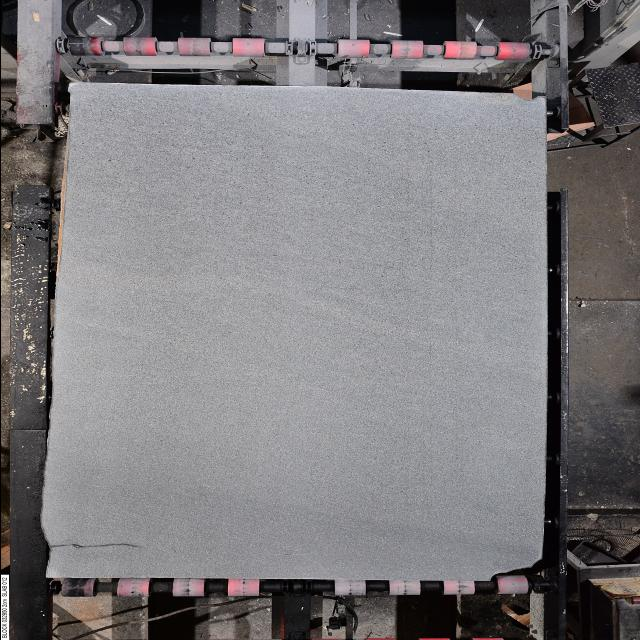chapa: (41, 84, 548, 580)
